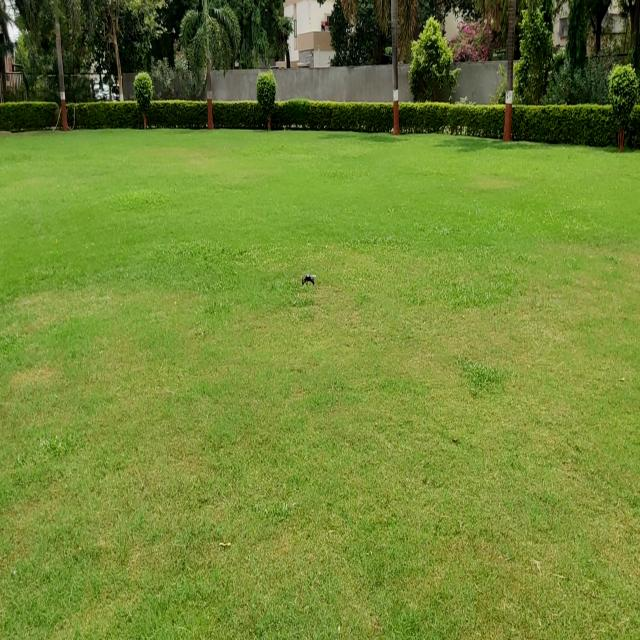drone: (295, 271, 321, 294)
